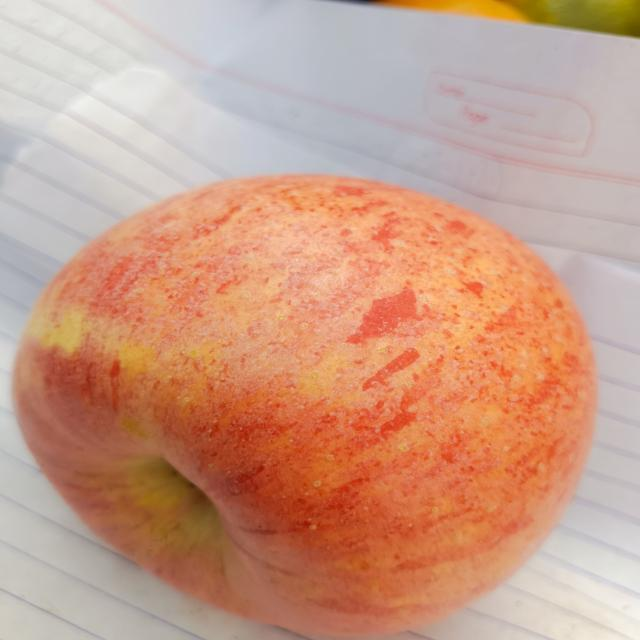Fresh Apple: (17, 167, 604, 634)
